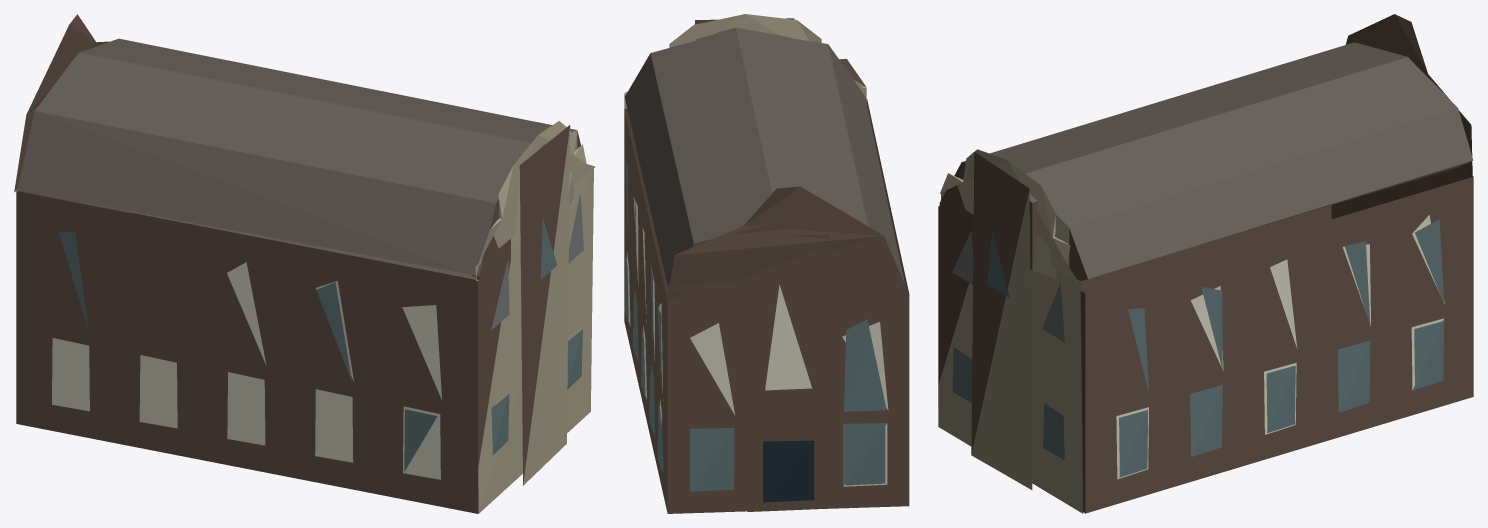
File: uilenburger-synagoge.lod2.glb
3 views of the same model, side by side, from view 1: azimuth 30°, elevation 25°; view 2: azimuth 150°, elevation 25°; view 3: azimuth 270°, elevation 25° (orthographic). The views are drawn at different scales.
Visible parts, largest first — view 1: lod2; view 2: lod2; view 3: lod2.
Part boxes in pixels (x1,y1,x2,y2): lod2: [14, 14, 595, 513]; lod2: [624, 14, 909, 513]; lod2: [938, 14, 1473, 513].
Size of the model in its own units: 22.22 by 16.79 by 24.33.
